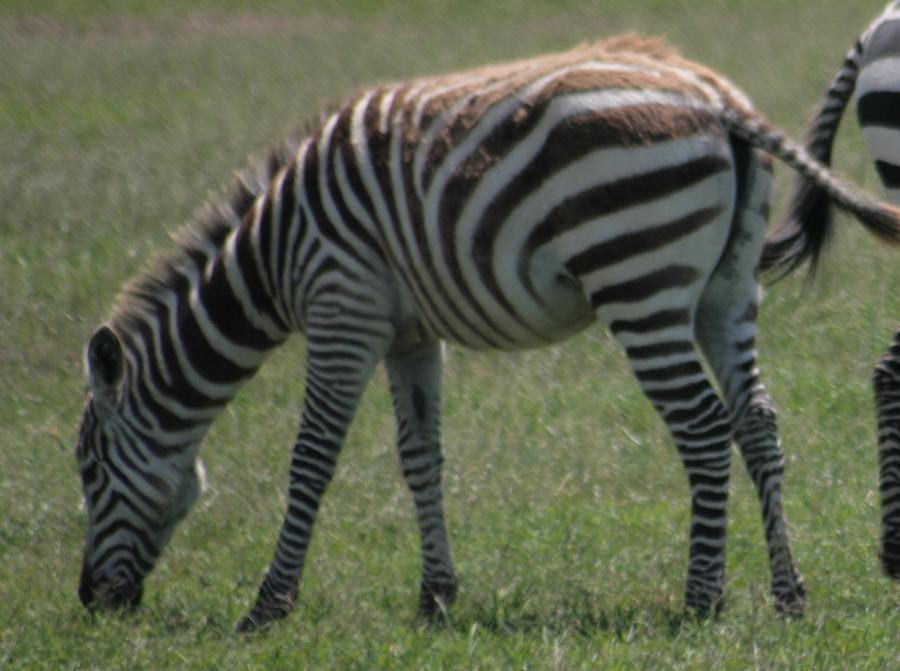zebra_plains: (258, 82, 744, 375)
